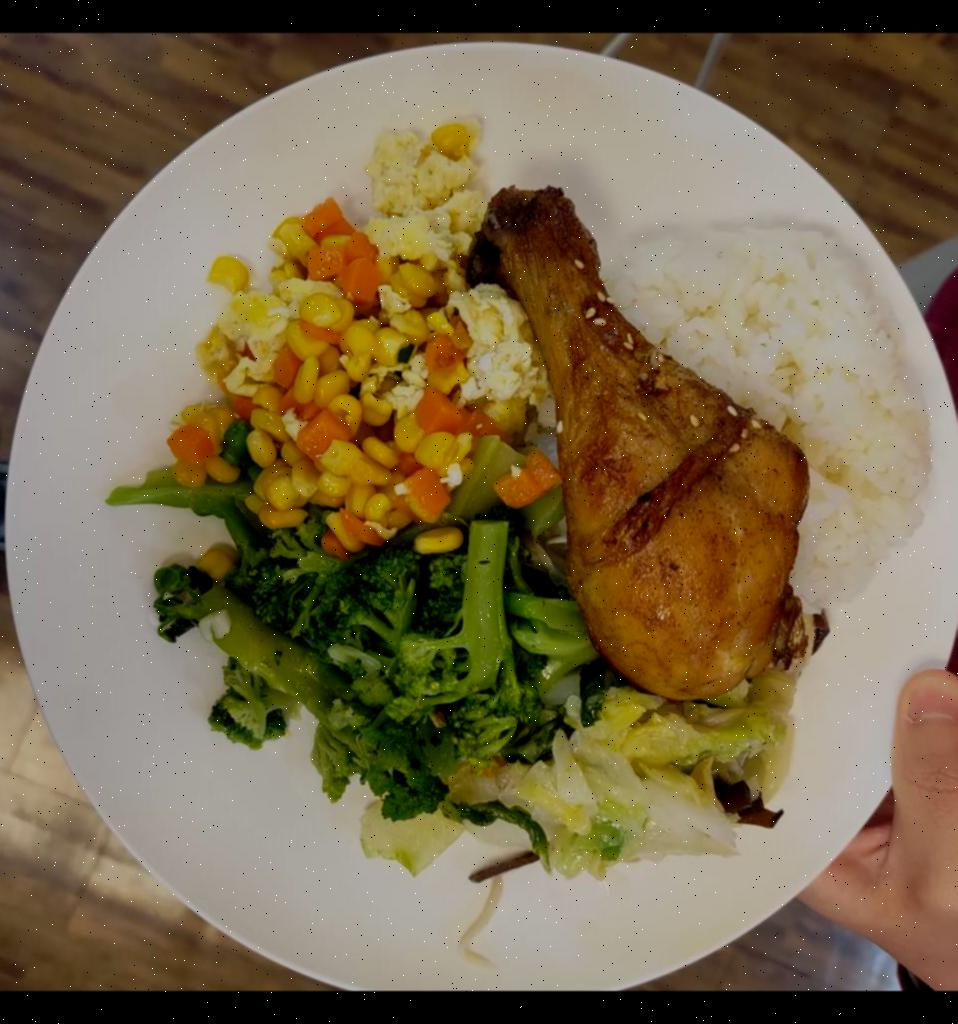big fried chicken leg: (0, 39, 958, 991)
big herbal chicken leg: (600, 216, 940, 618)
braised fish fillet: (218, 120, 523, 538), (164, 520, 594, 796), (454, 704, 805, 872)
braised pork: (470, 176, 810, 714)
